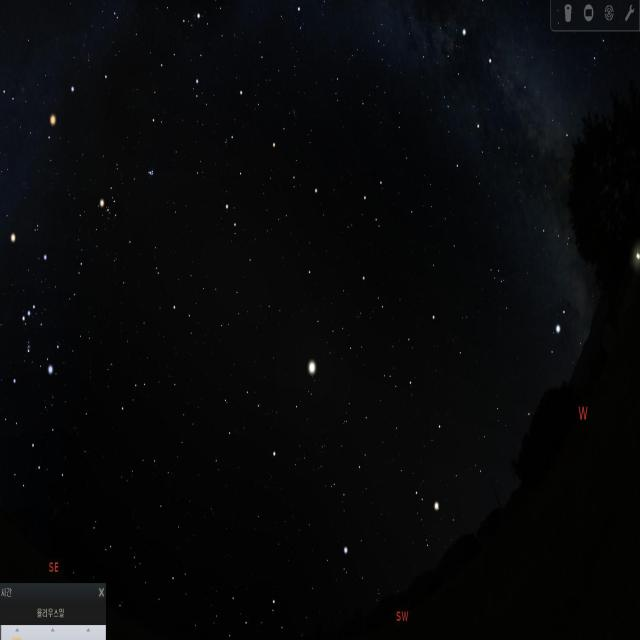cygnus: (458, 0, 579, 164)
orion: (0, 217, 57, 392)
pleiades: (144, 156, 156, 187)
taurus: (91, 129, 163, 257)
